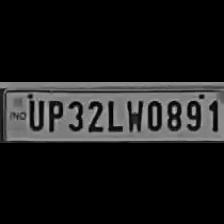0: (144, 96, 164, 132)
1: (204, 97, 222, 132)
2: (84, 96, 104, 134)
3: (64, 96, 84, 132)
8: (164, 96, 182, 132)
9: (182, 96, 202, 132)
L: (104, 96, 122, 132)
P: (44, 96, 64, 132)
U: (24, 96, 43, 132)
W: (123, 96, 143, 132)
